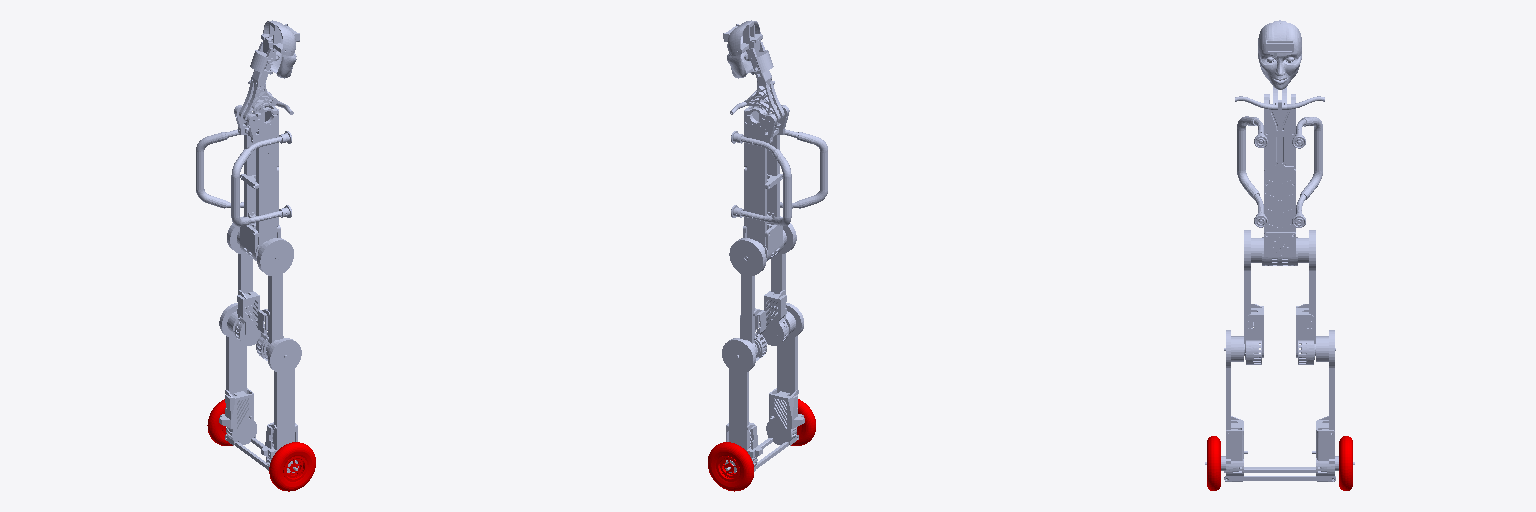
The robot description file, URDF, robot "URDF_Male_Android_15b.SLDASM":
<?xml version="1.0" encoding="utf-8"?>
<!-- This URDF was automatically created by SolidWorks to URDF Exporter! Originally created by [author] ([email redacted]) 
     Commit Version: 1.6.0-1-g15f4949  Build Version: 1.6.7594.29634
     For more information, please see http://wiki.ros.org/sw_urdf_exporter -->
<robot
  name="URDF_Male_Android_15b.SLDASM">
  <link
    name="Trunk">
    <inertial>
      <origin
        xyz="-0.000288929769199511 0.35619961643186 -1.12102794831557E-05"
        rpy="0 0 0" />
      <mass
        value="4.28371529747128" />
      <inertia
        ixx="0.022983985560883"
        ixy="-0.000121350281025128"
        ixz="8.18169564782636E-06"
        iyy="0.00706209432293559"
        iyz="4.3435222365156E-06"
        izz="0.0236456267921383" />
    </inertial>
    <visual>
      <origin
        xyz="0 0 0"
        rpy="0 0 0" />
      <geometry>
        <mesh
          filename="package://URDF_Male_Android_15b.SLDASM/meshes/Trunk.STL" />
      </geometry>
      <material
        name="">
        <color
          rgba="0.792156862745098 0.819607843137255 0.933333333333333 1" />
      </material>
    </visual>
    <collision>
      <origin
        xyz="0 0 0"
        rpy="0 0 0" />
      <geometry>
        <mesh
          filename="package://URDF_Male_Android_15b.SLDASM/meshes/Trunk.STL" />
      </geometry>
    </collision>
  </link>
  <link
    name="Thighs">
    <inertial>
      <origin
        xyz="-1.26768672215037E-08 5.91772229090142E-05 0.210525498253032"
        rpy="0 0 0" />
      <mass
        value="2.49219996304741" />
      <inertia
        ixx="0.010510652243601"
        ixy="5.40215542172654E-11"
        ixz="2.10157062321765E-10"
        iyy="0.00931324935898725"
        iyz="0.000110212311726466"
        izz="0.00331152787396336" />
    </inertial>
    <visual>
      <origin
        xyz="0 0 0"
        rpy="0 0 0" />
      <geometry>
        <mesh
          filename="package://URDF_Male_Android_15b.SLDASM/meshes/Thighs.STL" />
      </geometry>
      <material
        name="">
        <color
          rgba="0.792156862745098 0.819607843137255 0.933333333333333 1" />
      </material>
    </visual>
    <collision>
      <origin
        xyz="0 0 0"
        rpy="0 0 0" />
      <geometry>
        <mesh
          filename="package://URDF_Male_Android_15b.SLDASM/meshes/Thighs.STL" />
      </geometry>
    </collision>
  </link>
  <joint
    name="Hips"
    type="continuous">
    <origin
      xyz="0 0 0"
      rpy="3.1416 0 -1.5708" />
    <parent
      link="Trunk" />
    <child
      link="Thighs" />
    <axis
      xyz="1 0 0" />
  </joint>
  <link
    name="Joined_Base">
    <inertial>
      <origin
        xyz="0.000319888278323557 -0.000121027068038494 -0.30479789256348"
        rpy="0 0 0" />
      <mass
        value="2.50741004401563" />
      <inertia
        ixx="0.0125539197613347"
        ixy="-4.10062415229489E-11"
        ixz="8.03564460988525E-05"
        iyy="0.0119106728832357"
        iyz="-4.11872459183478E-11"
        izz="0.00576727361949057" />
    </inertial>
    <visual>
      <origin
        xyz="0 0 0"
        rpy="0 0 0" />
      <geometry>
        <mesh
          filename="package://URDF_Male_Android_15b.SLDASM/meshes/Joined_Base.STL" />
      </geometry>
      <material
        name="">
        <color
          rgba="0.792156862745098 0.819607843137255 0.933333333333333 1" />
      </material>
    </visual>
    <collision>
      <origin
        xyz="0 0 0"
        rpy="0 0 0" />
      <geometry>
        <mesh
          filename="package://URDF_Male_Android_15b.SLDASM/meshes/Joined_Base.STL" />
      </geometry>
    </collision>
  </link>
  <joint
    name="Knees"
    type="continuous">
    <origin
      xyz="0 0 0.39"
      rpy="-3.1416 0 -1.5708" />
    <parent
      link="Thighs" />
    <child
      link="Joined_Base" />
    <axis
      xyz="0 1 0" />
  </joint>
  <link
    name="Right_Wheel">
    <inertial>
      <origin
        xyz="0 0.0249301764497238 0"
        rpy="0 0 0" />
      <mass
        value="1.11472878874456" />
      <inertia
        ixx="0.00322054319518712"
        ixy="-3.82882023253984E-18"
        ixz="-5.42101086242752E-19"
        iyy="0.00606959553066417"
        iyz="-6.92813034376943E-19"
        izz="0.00322054319518712" />
    </inertial>
    <visual>
      <origin
        xyz="0 0 0"
        rpy="0 0 0" />
      <geometry>
        <mesh
          filename="package://URDF_Male_Android_15b.SLDASM/meshes/Right_Wheel.STL" />
      </geometry>
      <material
        name="">
        <color
          rgba="1 0 0 1" />
      </material>
    </visual>
    <collision>
      <origin
        xyz="0 0 0"
        rpy="0 0 0" />
      <geometry>
        <mesh
          filename="package://URDF_Male_Android_15b.SLDASM/meshes/Right_Wheel.STL" />
      </geometry>
    </collision>
  </link>
  <joint
    name="Right_Drive"
    type="continuous">
    <origin
      xyz="0.00535 -0.2121 -0.44925"
      rpy="0 -0.64764 3.1416" />
    <parent
      link="Joined_Base" />
    <child
      link="Right_Wheel" />
    <axis
      xyz="0 1 0" />
  </joint>
  <link
    name="Left_Wheel">
    <inertial>
      <origin
        xyz="1.11022302462516E-16 0.0249301764497238 -2.77555756156289E-17"
        rpy="0 0 0" />
      <mass
        value="1.11472878874456" />
      <inertia
        ixx="0.00322054319518712"
        ixy="2.21849691132144E-18"
        ixz="4.33680868994201E-19"
        iyy="0.00606959553066418"
        iyz="5.95048088649618E-20"
        izz="0.00322054319518712" />
    </inertial>
    <visual>
      <origin
        xyz="0 0 0"
        rpy="0 0 0" />
      <geometry>
        <mesh
          filename="package://URDF_Male_Android_15b.SLDASM/meshes/Left_Wheel.STL" />
      </geometry>
      <material
        name="">
        <color
          rgba="1 0 0 1" />
      </material>
    </visual>
    <collision>
      <origin
        xyz="0 0 0"
        rpy="0 0 0" />
      <geometry>
        <mesh
          filename="package://URDF_Male_Android_15b.SLDASM/meshes/Left_Wheel.STL" />
      </geometry>
    </collision>
  </link>
  <joint
    name="Left_Drive"
    type="continuous">
    <origin
      xyz="0.00535 0.21145 -0.44925"
      rpy="3.1416 -1.3503 -3.1416" />
    <parent
      link="Joined_Base" />
    <child
      link="Left_Wheel" />
    <axis
      xyz="0 1 0" />
  </joint>
  <link
    name="IMU_01">
    <inertial>
      <origin
        xyz="-2.04271395162835E-11 9.47516646855329E-05 0.00149700438277225"
        rpy="0 0 0" />
      <mass
        value="0.00161296300164692" />
      <inertia
        ixx="9.53749826630716E-08"
        ixy="-7.99626490475066E-17"
        ixz="-7.202239691808E-16"
        iyy="5.59429481187672E-08"
        iyz="5.8600682221541E-09"
        izz="1.48156669855035E-07" />
    </inertial>
    <visual>
      <origin
        xyz="0 0 0"
        rpy="0 0 0" />
      <geometry>
        <mesh
          filename="package://URDF_Male_Android_15b.SLDASM/meshes/IMU_01.STL" />
      </geometry>
      <material
        name="">
        <color
          rgba="0.792156862745098 0.819607843137255 0.933333333333333 1" />
      </material>
    </visual>
    <collision>
      <origin
        xyz="0 0 0"
        rpy="0 0 0" />
      <geometry>
        <mesh
          filename="package://URDF_Male_Android_15b.SLDASM/meshes/IMU_01.STL" />
      </geometry>
    </collision>
  </link>
  <joint
    name="IMU"
    type="fixed">
    <origin
      xyz="0.029 0 0.49205"
      rpy="-1.5076 0 -1.5708" />
    <parent
      link="Trunk" />
    <child
      link="IMU_01" />
    <axis
      xyz="0 0 0" />
  </joint>
</robot>

--- Render facts (derived) ---
The picture shows the robot from 3 angles, left to right: view 1: azimuth 30°, elevation 25°; view 2: azimuth 150°, elevation 25°; view 3: azimuth 270°, elevation 25°; orthographic projection.
Model URDF_Male_Android_15b.SLDASM with 6 links and 5 joints (4 continuous, 1 fixed), rooted at Trunk, posed all joints at 0.
Visible links, largest first — view 1: Trunk, Joined_Base, Thighs, Right_Wheel, Left_Wheel; view 2: Trunk, Joined_Base, Thighs, Left_Wheel, Right_Wheel; view 3: Trunk, Joined_Base, Thighs, Right_Wheel, Left_Wheel.
Boxes of the visible links, x1=… form: Trunk: x1=196, y1=20, x2=299, y2=260; Joined_Base: x1=219, y1=303, x2=301, y2=472; Thighs: x1=227, y1=216, x2=293, y2=360; Right_Wheel: x1=269, y1=442, x2=315, y2=491; Left_Wheel: x1=207, y1=399, x2=232, y2=445; Trunk: x1=723, y1=20, x2=827, y2=260; Joined_Base: x1=722, y1=303, x2=804, y2=472; Thighs: x1=729, y1=216, x2=796, y2=360; Left_Wheel: x1=708, y1=442, x2=753, y2=491; Right_Wheel: x1=791, y1=399, x2=815, y2=445; Trunk: x1=1235, y1=20, x2=1324, y2=265; Joined_Base: x1=1205, y1=330, x2=1354, y2=481; Thighs: x1=1224, y1=230, x2=1335, y2=364; Right_Wheel: x1=1207, y1=436, x2=1220, y2=490; Left_Wheel: x1=1339, y1=436, x2=1352, y2=490.
Bounding box of the posed robot: 0.3647 × 0.5374 × 1.87 m (x, y, z).
6 mesh visuals loaded from 6 distinct referenced files (6 binary STL).